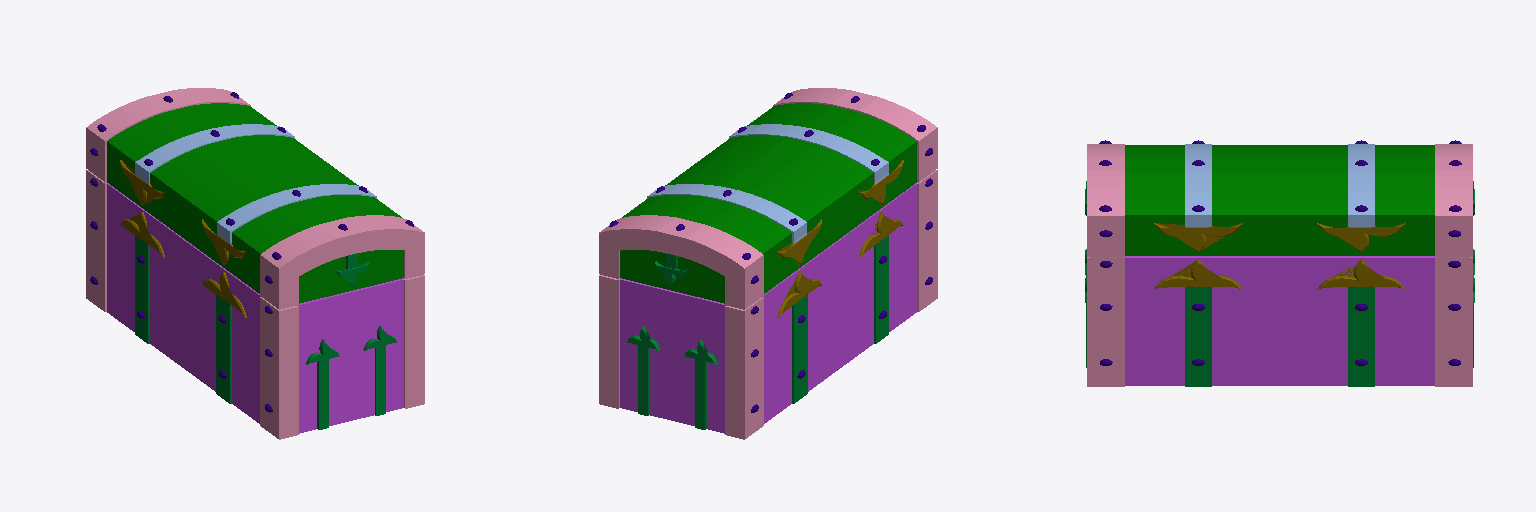
Rendered from treasure.obj.
3 views of the same model, side by side, from view 1: azimuth 30°, elevation 25°; view 2: azimuth 150°, elevation 25°; view 3: azimuth 270°, elevation 25° (orthographic).
Parts seen in each view (by area): view 1: Corpus_dereviannii, Crisca_dereviannaia01, Polosa_polucr2, Stoika2, Polosa_polucr1, Stoika1, Stoika4, Polosa_pol_na_crisce01, Polosa_pol_na_crisce, Box18, Box20, Box22 (+5 smaller); view 2: Corpus_dereviannii, Crisca_dereviannaia01, Polosa_polucr1, Stoika4, Polosa_polucr2, Stoika3, Stoika2, Polosa_pol_na_crisce, Polosa_pol_na_crisce01, Box20, Box18, Box27 (+5 smaller); view 3: Corpus_dereviannii, Crisca_dereviannaia01, Stoika1, Stoika3, Polosa_polucr1, Polosa_polucr2, Box19, Box21, Polosa_pol_na_crisce, Polosa_pol_na_crisce01, Pika01, Pika (+2 smaller).
Part boxes in pixels (left/top/right/bottom): Corpus_dereviannii: left=105, top=182, right=420, bottom=433; Crisca_dereviannaia01: left=107, top=103, right=403, bottom=303; Polosa_polucr2: left=260, top=215, right=424, bottom=309; Stoika2: left=260, top=297, right=298, bottom=439; Polosa_polucr1: left=86, top=88, right=250, bottom=181; Stoika1: left=404, top=275, right=424, bottom=408; Stoika4: left=86, top=170, right=106, bottom=311; Polosa_pol_na_crisce01: left=135, top=124, right=294, bottom=184; Polosa_pol_na_crisce: left=217, top=184, right=376, bottom=243; Box18: left=216, top=295, right=231, bottom=403; Box20: left=135, top=235, right=149, bottom=343; Box22: left=306, top=339, right=339, bottom=429; Corpus_dereviannii: left=603, top=182, right=918, bottom=433; Crisca_dereviannaia01: left=620, top=103, right=916, bottom=303; Polosa_polucr1: left=599, top=215, right=763, bottom=309; Stoika4: left=725, top=297, right=763, bottom=439; Polosa_polucr2: left=773, top=88, right=937, bottom=181; Stoika3: left=599, top=275, right=619, bottom=408; Stoika2: left=917, top=170, right=937, bottom=311; Polosa_pol_na_crisce: left=729, top=124, right=888, bottom=184; Polosa_pol_na_crisce01: left=647, top=184, right=806, bottom=243; Box20: left=792, top=294, right=807, bottom=403; Box18: left=874, top=235, right=888, bottom=343; Box27: left=684, top=339, right=717, bottom=429; Corpus_dereviannii: left=1090, top=256, right=1469, bottom=385; Crisca_dereviannaia01: left=1125, top=145, right=1434, bottom=255; Stoika1: left=1087, top=257, right=1124, bottom=386; Stoika3: left=1435, top=257, right=1472, bottom=386; Polosa_polucr1: left=1435, top=144, right=1472, bottom=256; Polosa_polucr2: left=1087, top=144, right=1124, bottom=256; Box19: left=1185, top=287, right=1211, bottom=386; Box21: left=1348, top=287, right=1374, bottom=386; Polosa_pol_na_crisce: left=1185, top=144, right=1211, bottom=226; Polosa_pol_na_crisce01: left=1348, top=144, right=1374, bottom=226; Pika01: left=1154, top=223, right=1242, bottom=252; Pika: left=1154, top=260, right=1242, bottom=289.
Size of the model in its own units: 447 by 528 by 979.